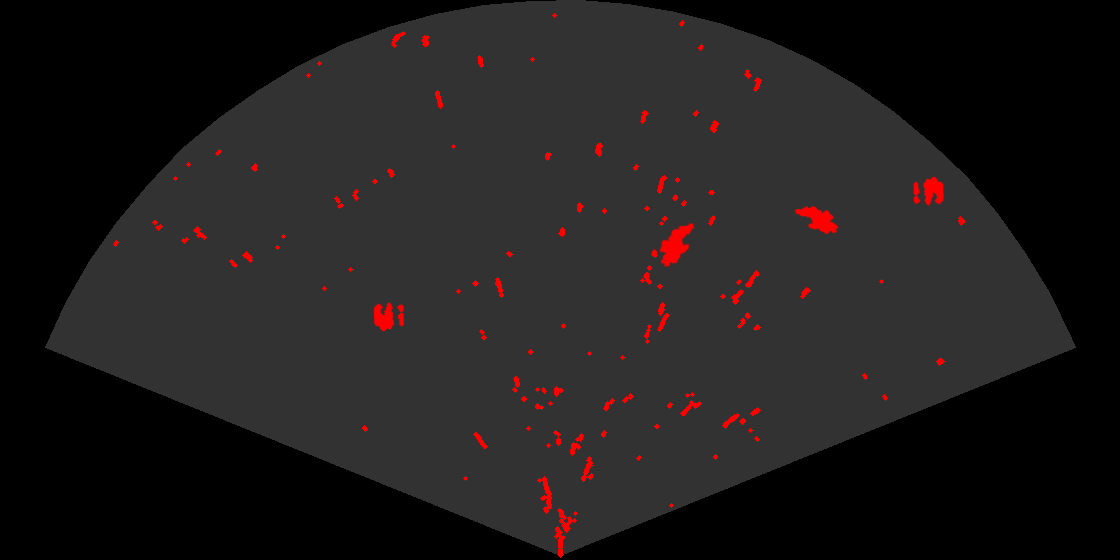AUV: (658, 221, 696, 269), (793, 204, 840, 236)
ball: (372, 301, 406, 333), (912, 175, 945, 207)
